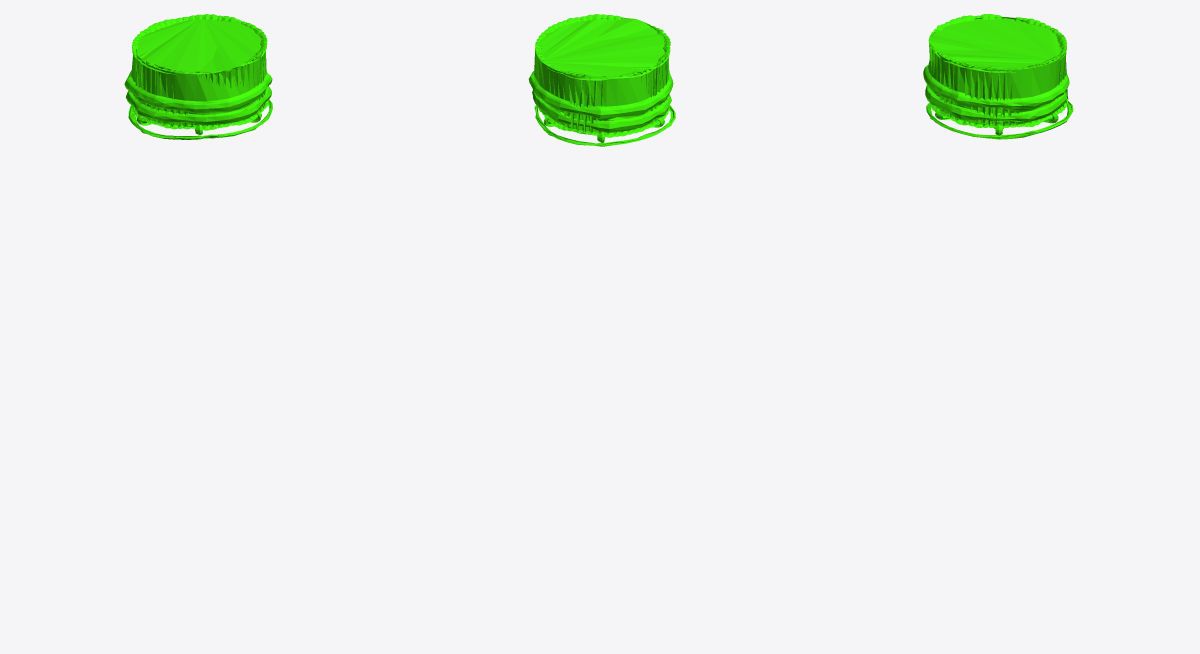
The model's file is crush_low_1.obj.
The picture shows the model from 3 angles, left to right: view 1: azimuth 30°, elevation 25°; view 2: azimuth 150°, elevation 25°; view 3: azimuth 270°, elevation 25°; orthographic projection.
Visible parts, largest first — view 1: model; view 2: model; view 3: model.
Boxes of the visible parts, x1,y1,x2,y2 form: model: (124, 14, 272, 139); model: (528, 14, 675, 146); model: (923, 14, 1073, 139).
Bounding box in the file's own units: 0.1202 × 0.1919 × 0.1199.
Materials: 1 (1 with a texture image).
